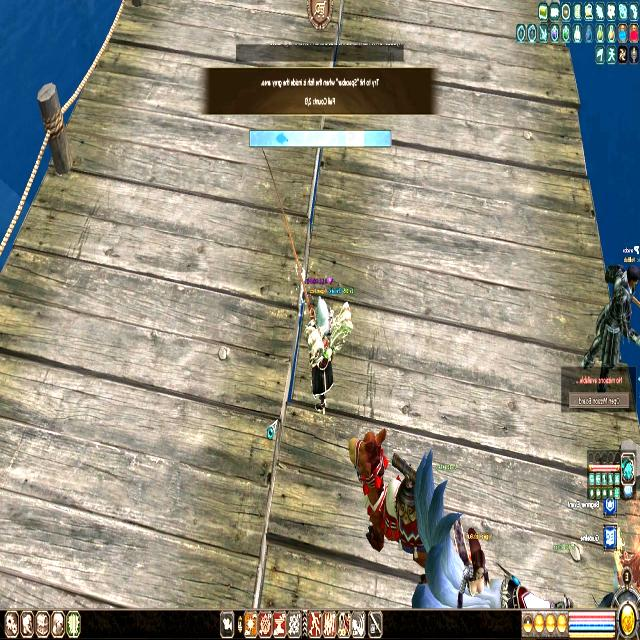fishes: (275, 132, 288, 146)
